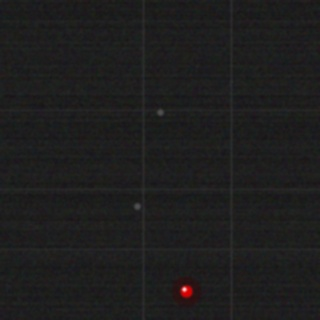red_fault: (178, 283, 194, 299)
